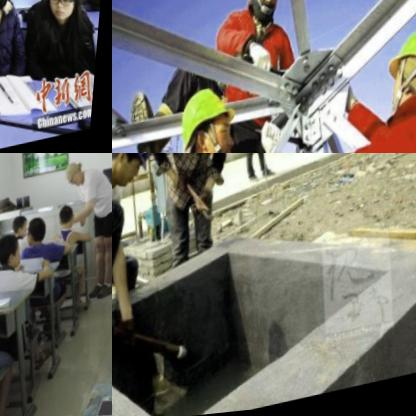head: (0, 229, 28, 275), (50, 0, 84, 33), (24, 217, 50, 251), (62, 159, 87, 191), (9, 214, 34, 241), (56, 205, 78, 235)
helmet: (171, 77, 249, 153), (377, 21, 416, 130), (112, 153, 167, 191), (239, 0, 294, 30)
